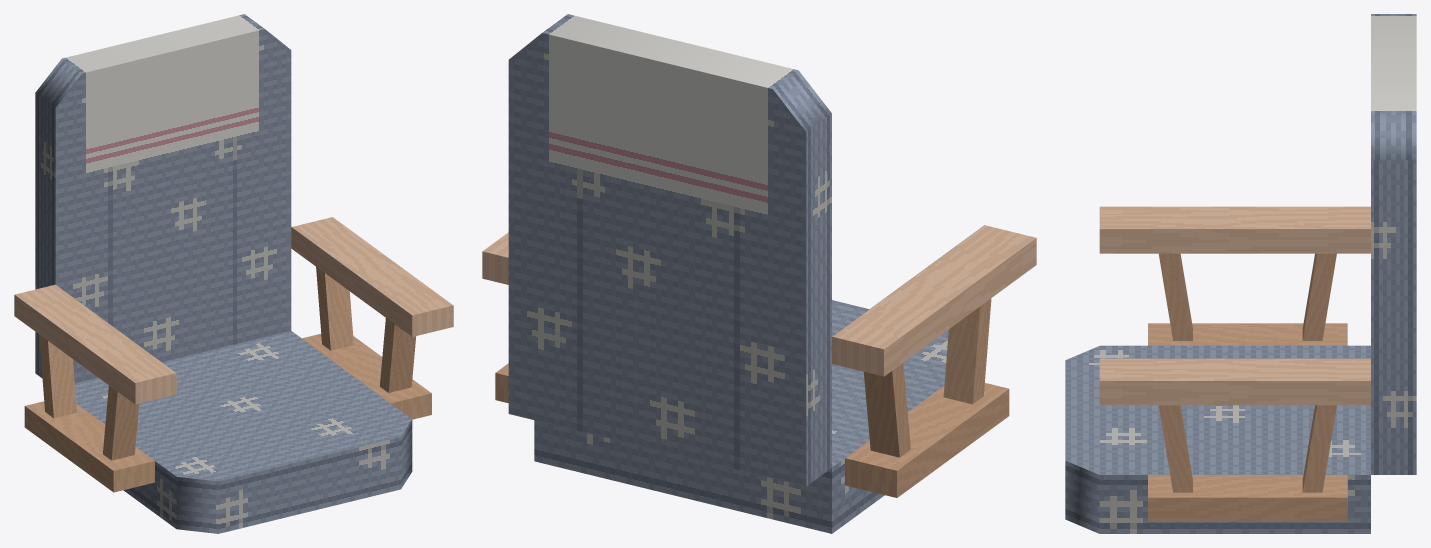
Rendered from 018d_Legless_Chair.glb.
3 renders of one model, left to right at view 1: azimuth 30°, elevation 25°; view 2: azimuth 150°, elevation 25°; view 3: azimuth 270°, elevation 25°, orthographic. The views are drawn at different scales.
Visible parts, largest first — view 1: part_0; view 2: part_0; view 3: part_0.
Boxes of the visible parts, x1,y1,x2,y2 form: part_0: [14, 14, 453, 533]; part_0: [482, 14, 1036, 533]; part_0: [1065, 14, 1416, 533].
Size of the model in its own units: 0.648 by 0.7021 by 0.552.
1 material, 1 textured.
